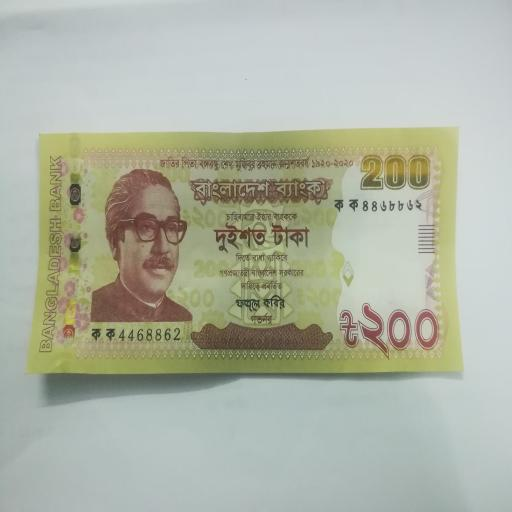200taka: (26, 128, 463, 374)
